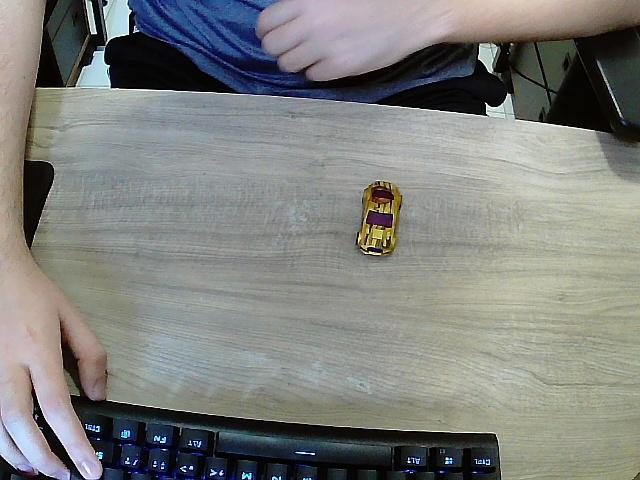Carro: (355, 181, 402, 258)
